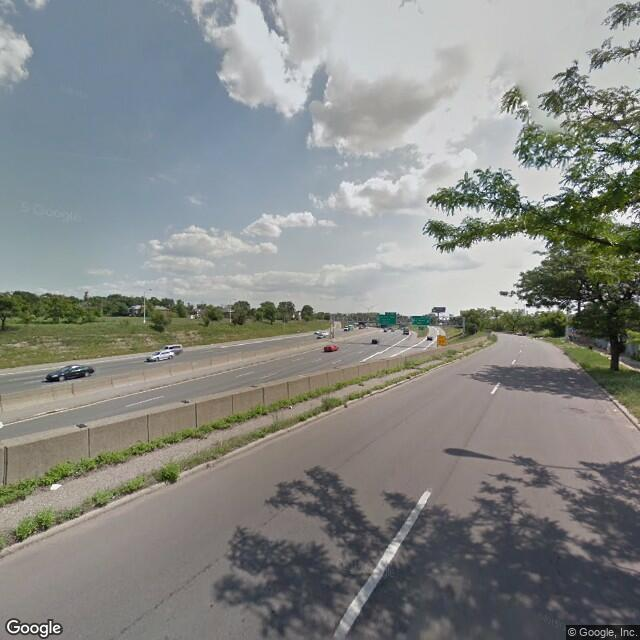litter: (47, 480, 59, 491), (613, 407, 621, 414), (284, 404, 295, 409)
